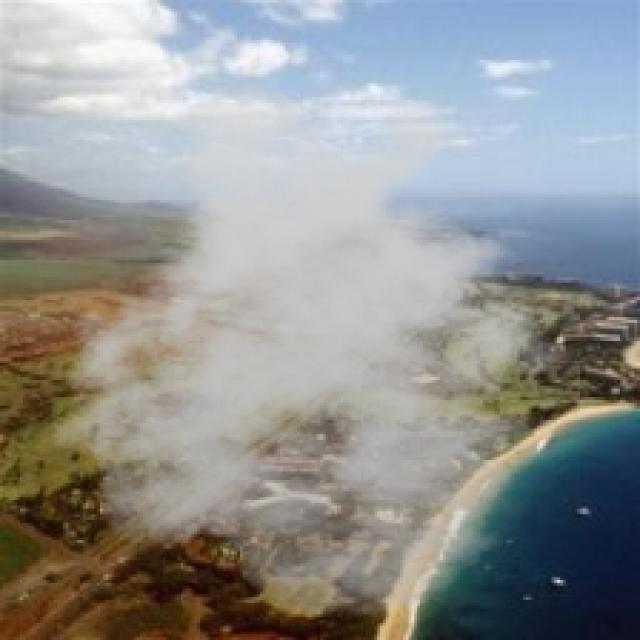smoke: (37, 77, 600, 620)
